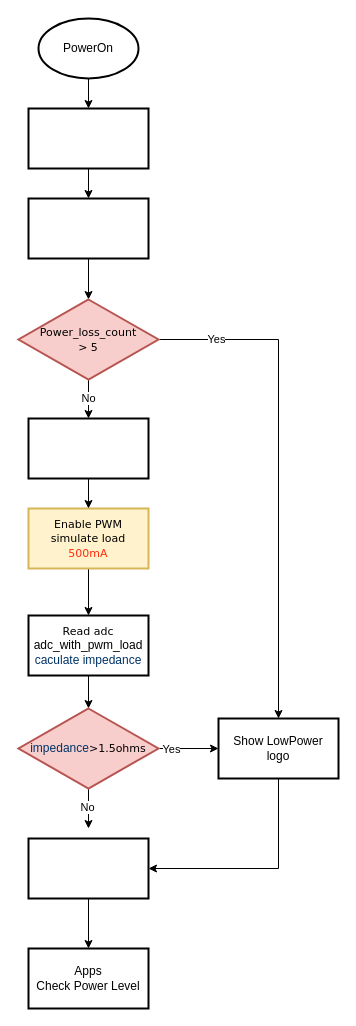
Image size: 356x1026. Some labels were removed from this diagram. The box of each missing label's shape, as (x1, y1, x2, y2) in pixels:
Kernel Create sysfs node for Power API Power_loss_count =0: (27, 837, 149, 899)
Power_loss_count++ save to storage: (27, 197, 149, 259)
Read adc adc_without_pwm: (27, 417, 149, 479)
Read Power_loss_count From persist storage: (27, 107, 149, 169)
